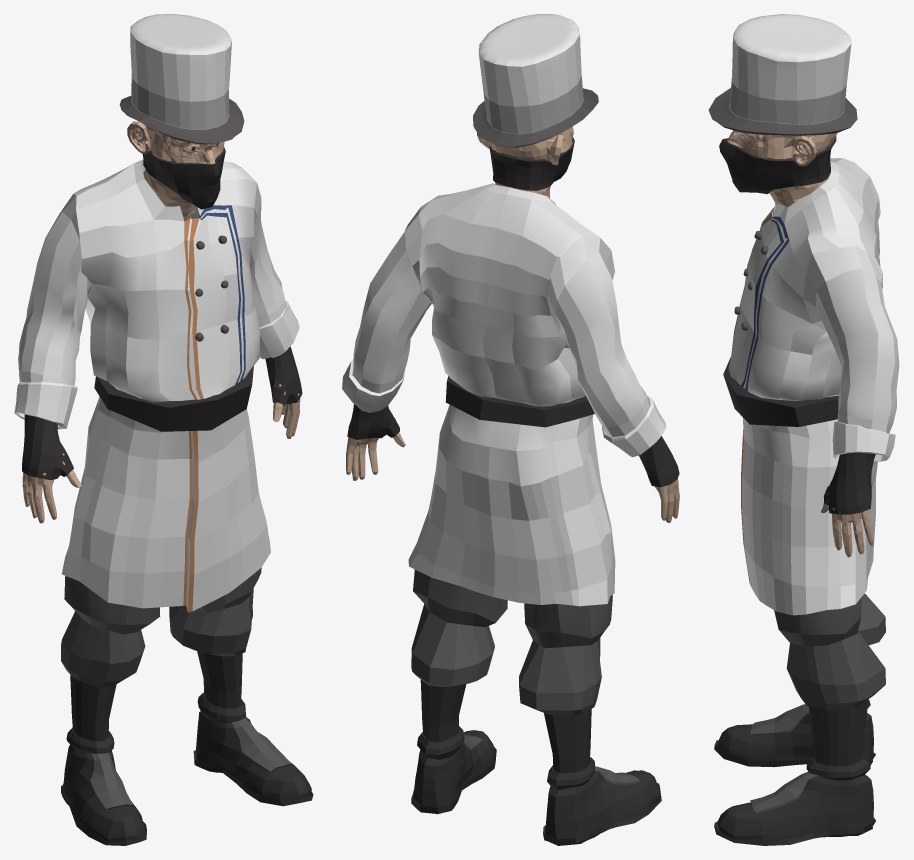
Rendered from Chef 1.fbx.
3 renders of one model, left to right at view 1: azimuth 30°, elevation 25°; view 2: azimuth 150°, elevation 25°; view 3: azimuth 270°, elevation 25°, orthographic.
Visible parts, largest first — view 1: Uniform, Legs, Hat, Belt, Head, Mask, Glove_R, Glove_L, Arm_R, Arm_L; view 2: Uniform, Legs, Hat, Belt, Mask, Head, Glove_L, Glove_R, Arm_L, Arm_R; view 3: Uniform, Legs, Hat, Mask, Belt, Head, Glove_L, Arm_L.
Part boxes in pixels (x1,y1,x2,y2): Uniform: (14, 159, 299, 612); Legs: (61, 567, 313, 845); Hat: (119, 14, 244, 144); Belt: (94, 366, 253, 431); Head: (127, 121, 224, 221); Mask: (142, 147, 225, 209); Glove_R: (22, 414, 73, 479); Glove_L: (265, 346, 302, 405); Arm_R: (22, 286, 90, 523); Arm_L: (273, 384, 300, 438); Uniform: (342, 183, 666, 606); Legs: (411, 569, 661, 845); Hat: (473, 14, 598, 147); Belt: (445, 376, 594, 427); Mask: (489, 137, 574, 190); Head: (477, 126, 573, 198); Glove_L: (347, 404, 399, 439); Glove_R: (639, 436, 679, 487); Arm_L: (346, 432, 405, 480); Arm_R: (654, 478, 679, 522); Uniform: (728, 158, 899, 615); Legs: (714, 593, 885, 845); Hat: (708, 14, 857, 135); Mask: (719, 136, 836, 194); Belt: (723, 357, 838, 426); Head: (727, 130, 837, 206); Glove_L: (823, 452, 875, 514); Arm_L: (821, 492, 874, 557).
Bounding box in the file's own units: 80.08 × 197 × 44.57.
